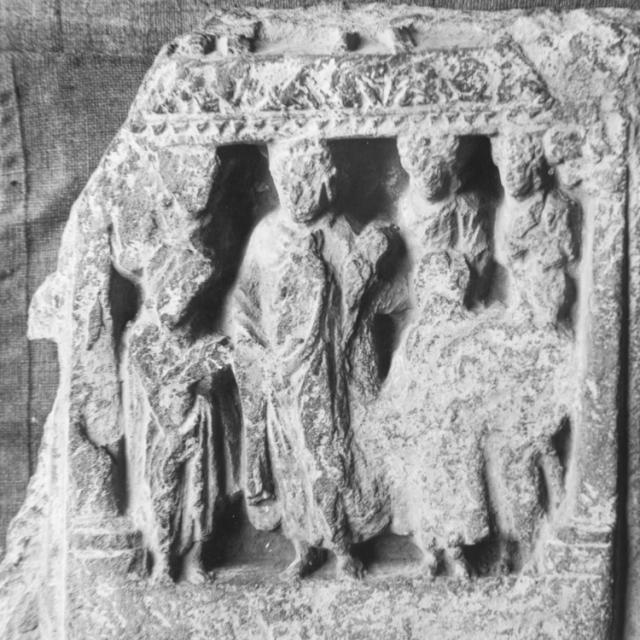buddha-standing: (233, 138, 396, 576)
